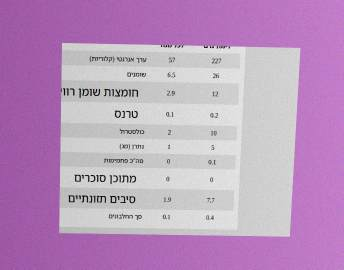carbs: (207, 156, 217, 167)
energy: (210, 55, 223, 66)
fat: (211, 70, 220, 81)
protein: (205, 212, 215, 223)
